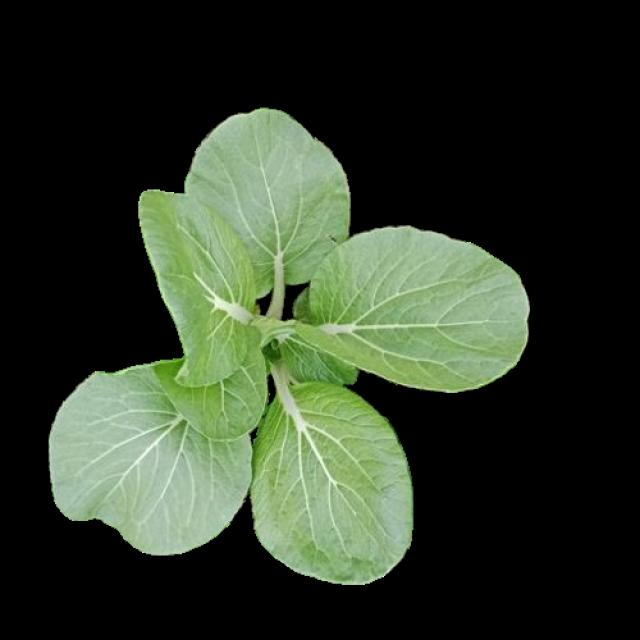healthy: (39, 108, 524, 574)
mature: (42, 110, 528, 577)
